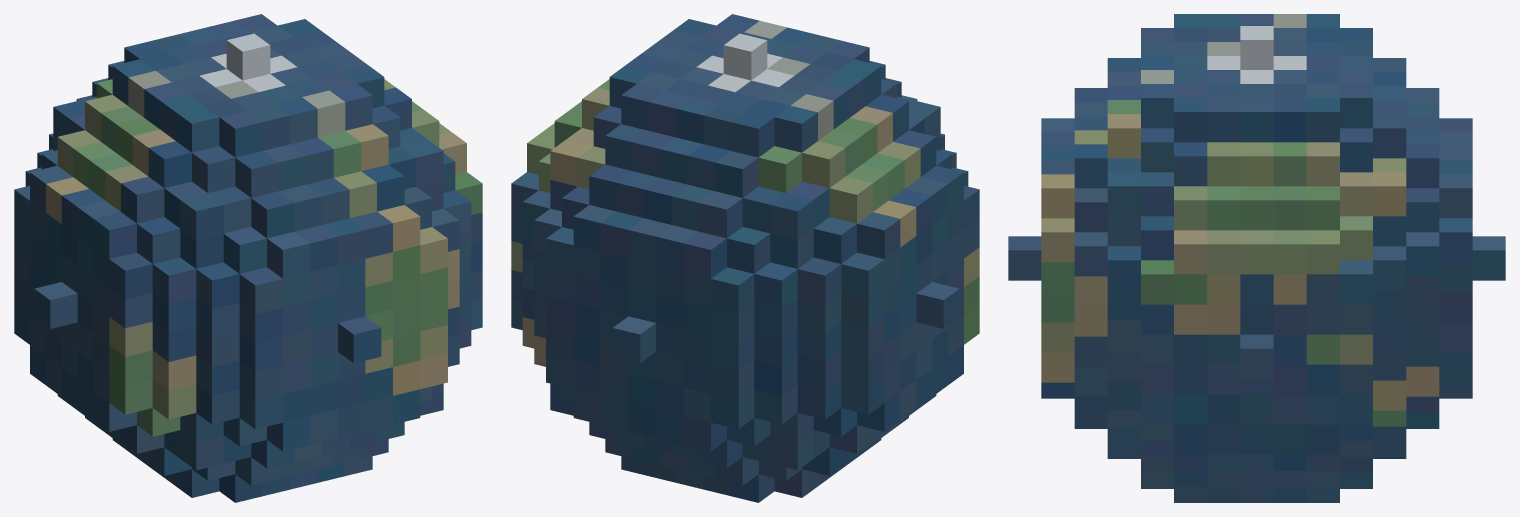
File: earth.glb
The picture shows the model from 3 angles, left to right: view 1: azimuth 30°, elevation 25°; view 2: azimuth 150°, elevation 25°; view 3: azimuth 270°, elevation 25°; orthographic projection. The views are drawn at different scales.
Visible parts, largest first — view 1: earth_voxel; view 2: earth_voxel; view 3: earth_voxel.
Boxes of the visible parts, <box> form: earth_voxel: <box>14,14,482,502</box>; earth_voxel: <box>511,14,979,502</box>; earth_voxel: <box>1008,14,1505,502</box>.
Bounding box in the file's own units: 15 × 15 × 15.
